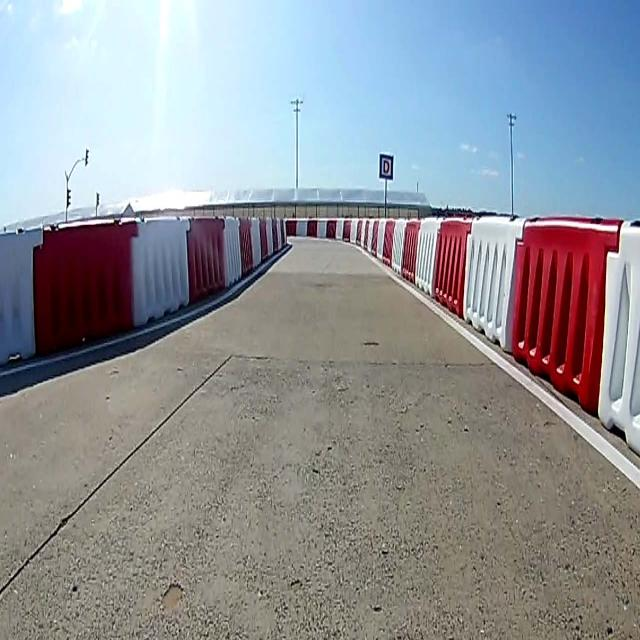durak: (379, 153, 394, 179)
